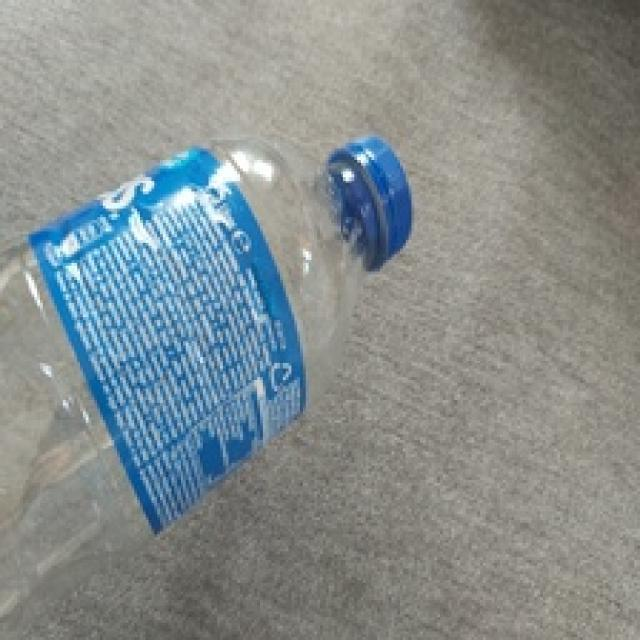Plastic: (0, 137, 415, 640)
